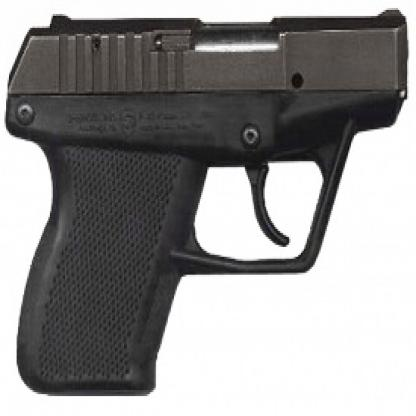Guns: (3, 4, 408, 398)
